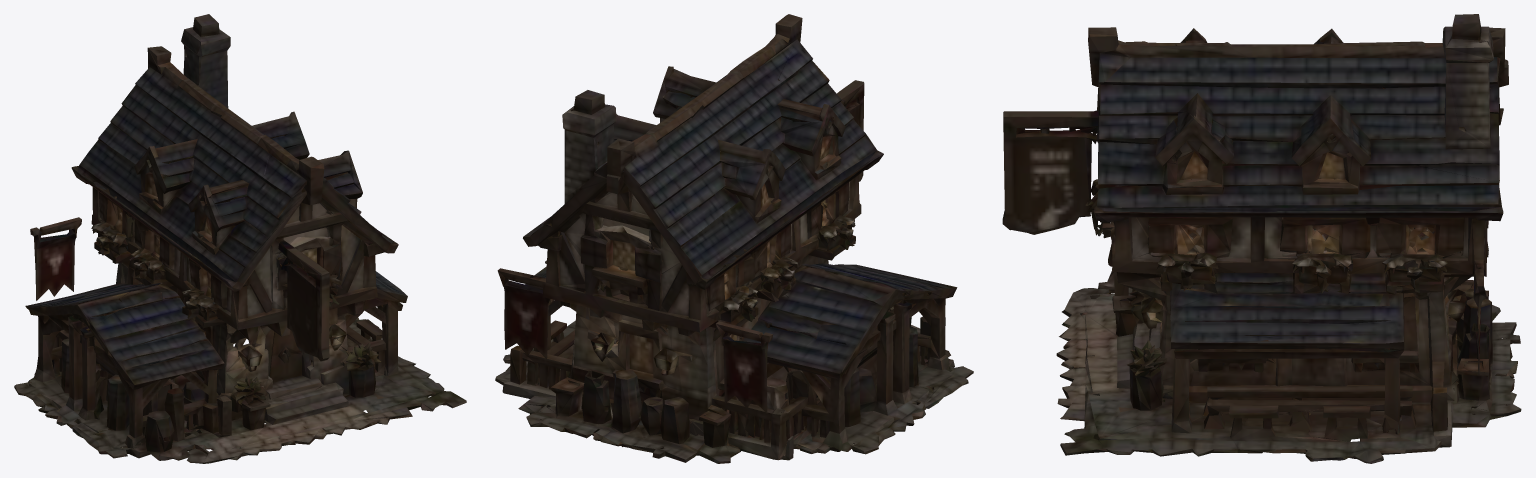
The model's file is war_tavern_01.glb.
The picture shows the model from 3 angles, left to right: view 1: azimuth 30°, elevation 25°; view 2: azimuth 150°, elevation 25°; view 3: azimuth 270°, elevation 25°; orthographic projection. The views are drawn at different scales.
Visible parts, largest first — view 1: geometry_0; view 2: geometry_0; view 3: geometry_0.
Boxes of the visible parts, box(x1,y1,x2,y2) form: geometry_0: box(14, 14, 466, 463); geometry_0: box(495, 14, 973, 463); geometry_0: box(1002, 14, 1521, 463).
Size of the model in its own units: 0.9711 by 0.8052 by 0.9996.
1 material, 1 textured.
